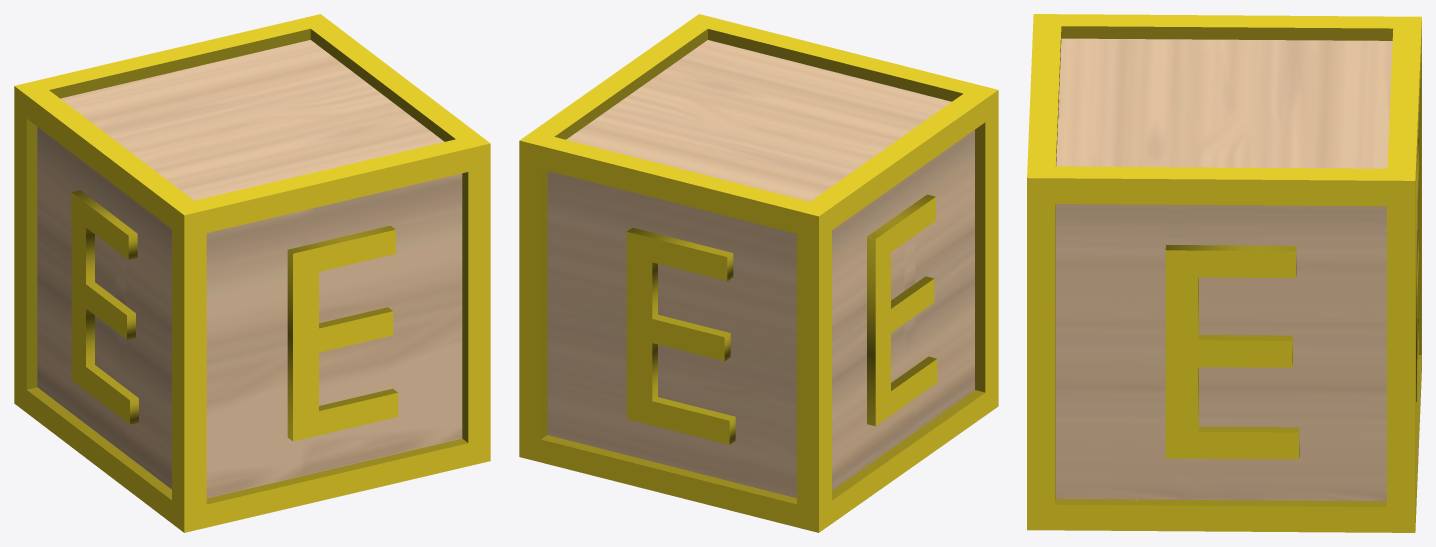
The picture shows the model from 3 angles, left to right: view 1: azimuth 30°, elevation 25°; view 2: azimuth 150°, elevation 25°; view 3: azimuth 270°, elevation 25°; orthographic projection. The views are drawn at different scales.
Parts seen in each view (by area): view 1: Cube.004; view 2: Cube.004; view 3: Cube.004.
Part boxes in pixels (left/top/right/bottom): Cube.004: left=14, top=14, right=490, bottom=532; Cube.004: left=519, top=14, right=998, bottom=532; Cube.004: left=1027, top=14, right=1421, bottom=532.
Size of the model in its own units: 74.8 by 73.57 by 74.8.
1 material, 1 textured.
